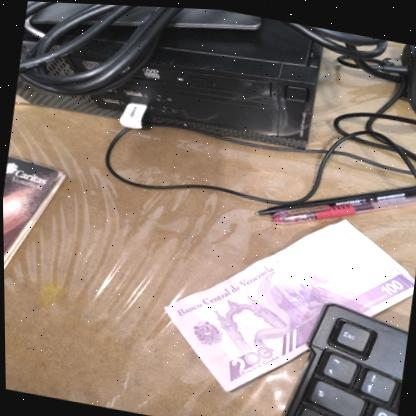one_hundred-back-vef: (150, 184, 416, 416)
